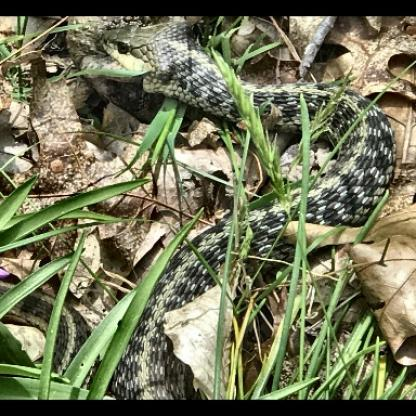Snake: (94, 24, 389, 250)
